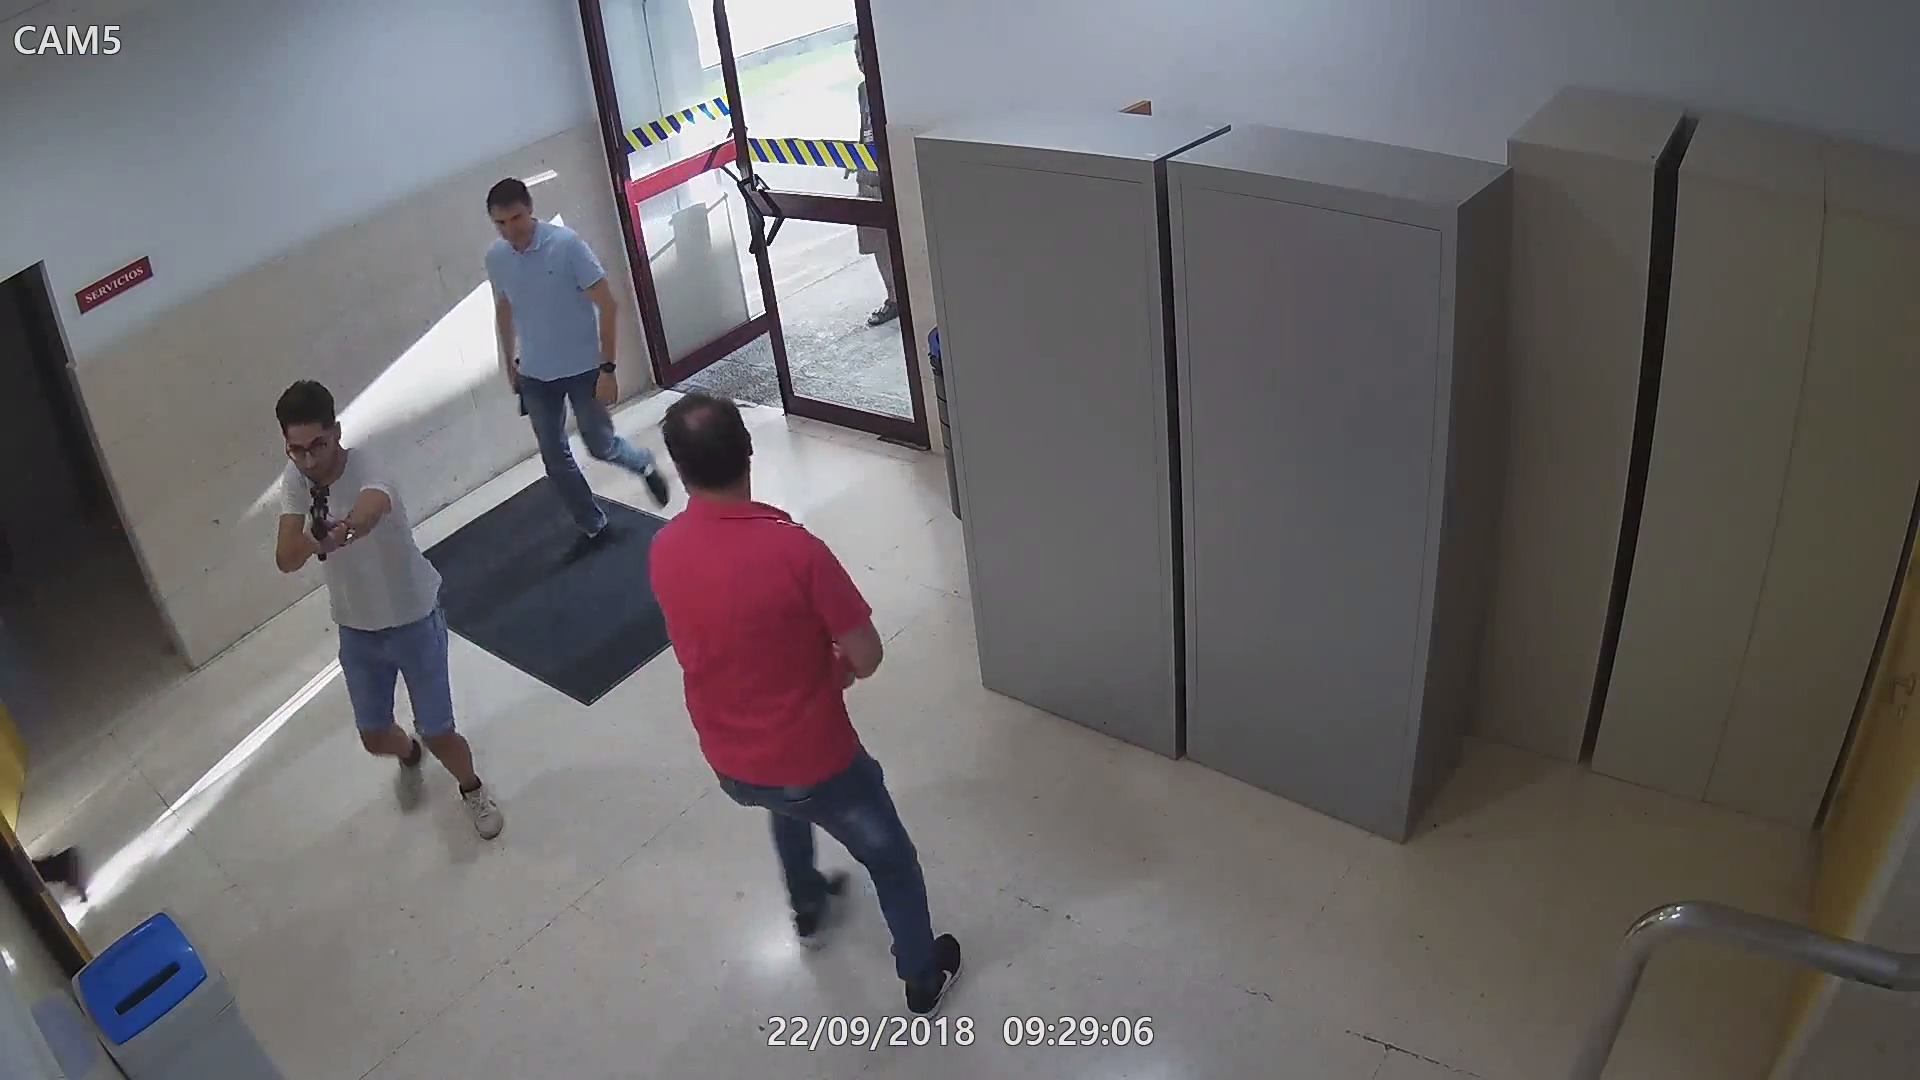Short_rifle: (301, 479, 342, 567)
